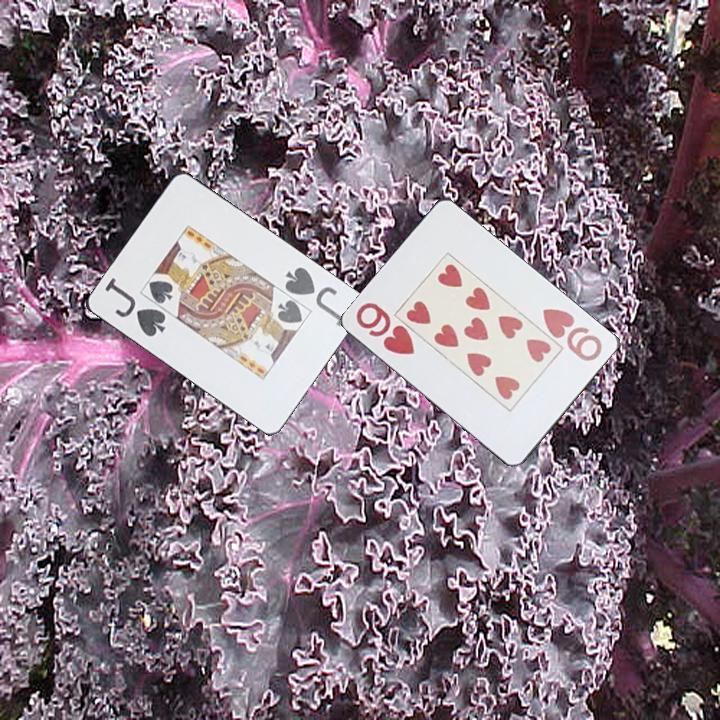9h: (539, 305, 606, 364), (353, 299, 420, 358)
Js: (281, 263, 350, 330), (101, 275, 168, 340)
